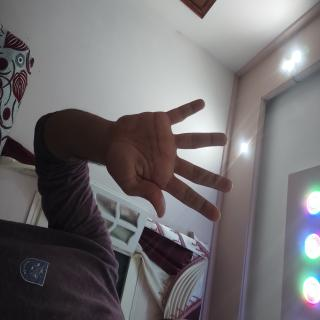SHEEN: (65, 112, 174, 288)
